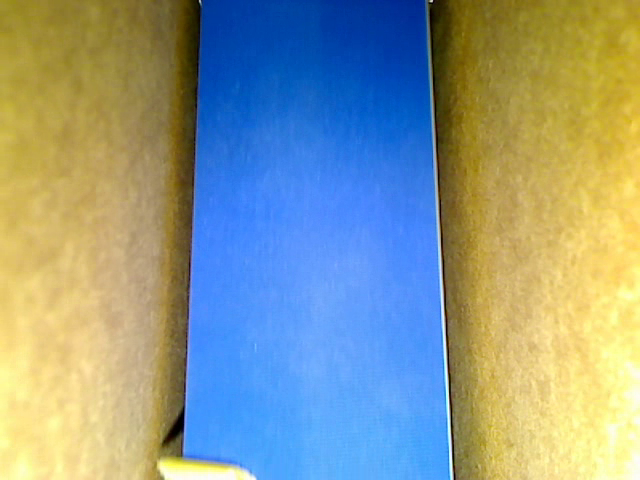penne: (156, 458, 256, 479)
